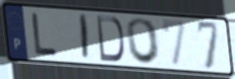7: (159, 18, 191, 69), (195, 19, 221, 72)
D: (95, 14, 126, 64)
I: (79, 13, 90, 62)
L: (30, 12, 60, 57)
O: (126, 17, 163, 66)
